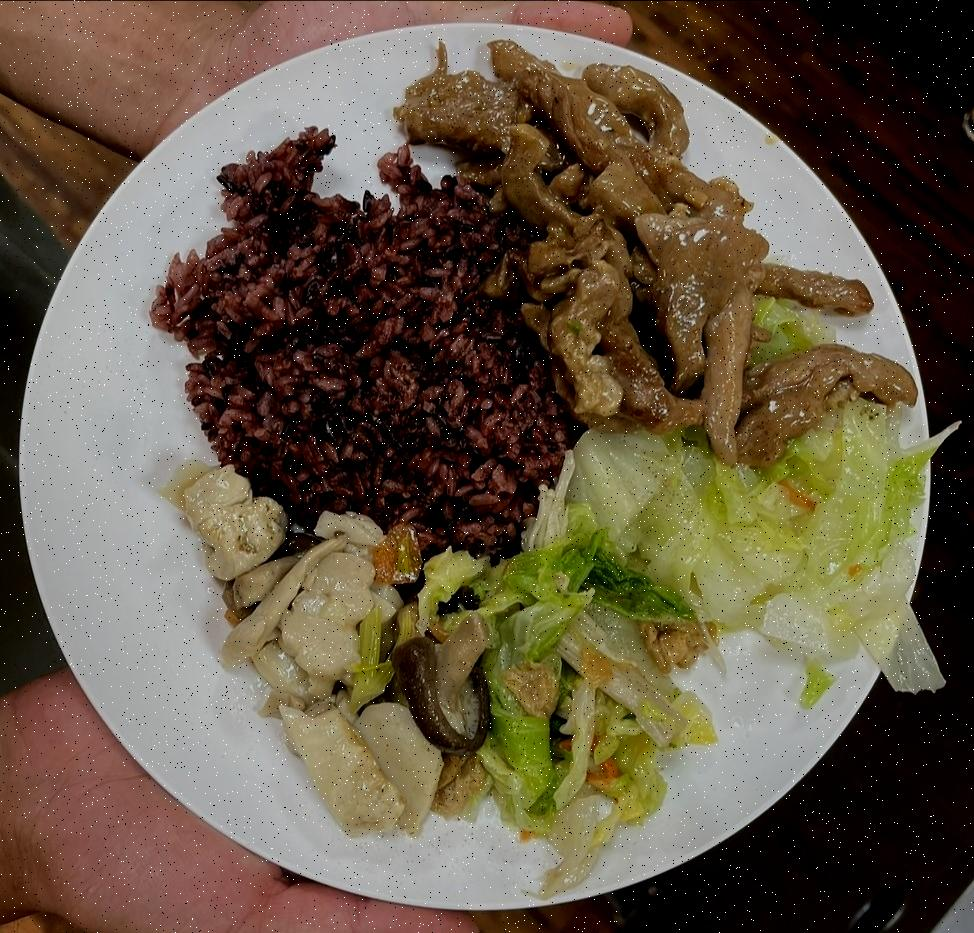plate: (20, 14, 959, 919)
pork with scrambled eggs: (416, 45, 918, 434)
purple rice: (165, 138, 552, 538)
side dish: (486, 405, 924, 860), (179, 472, 489, 839)
